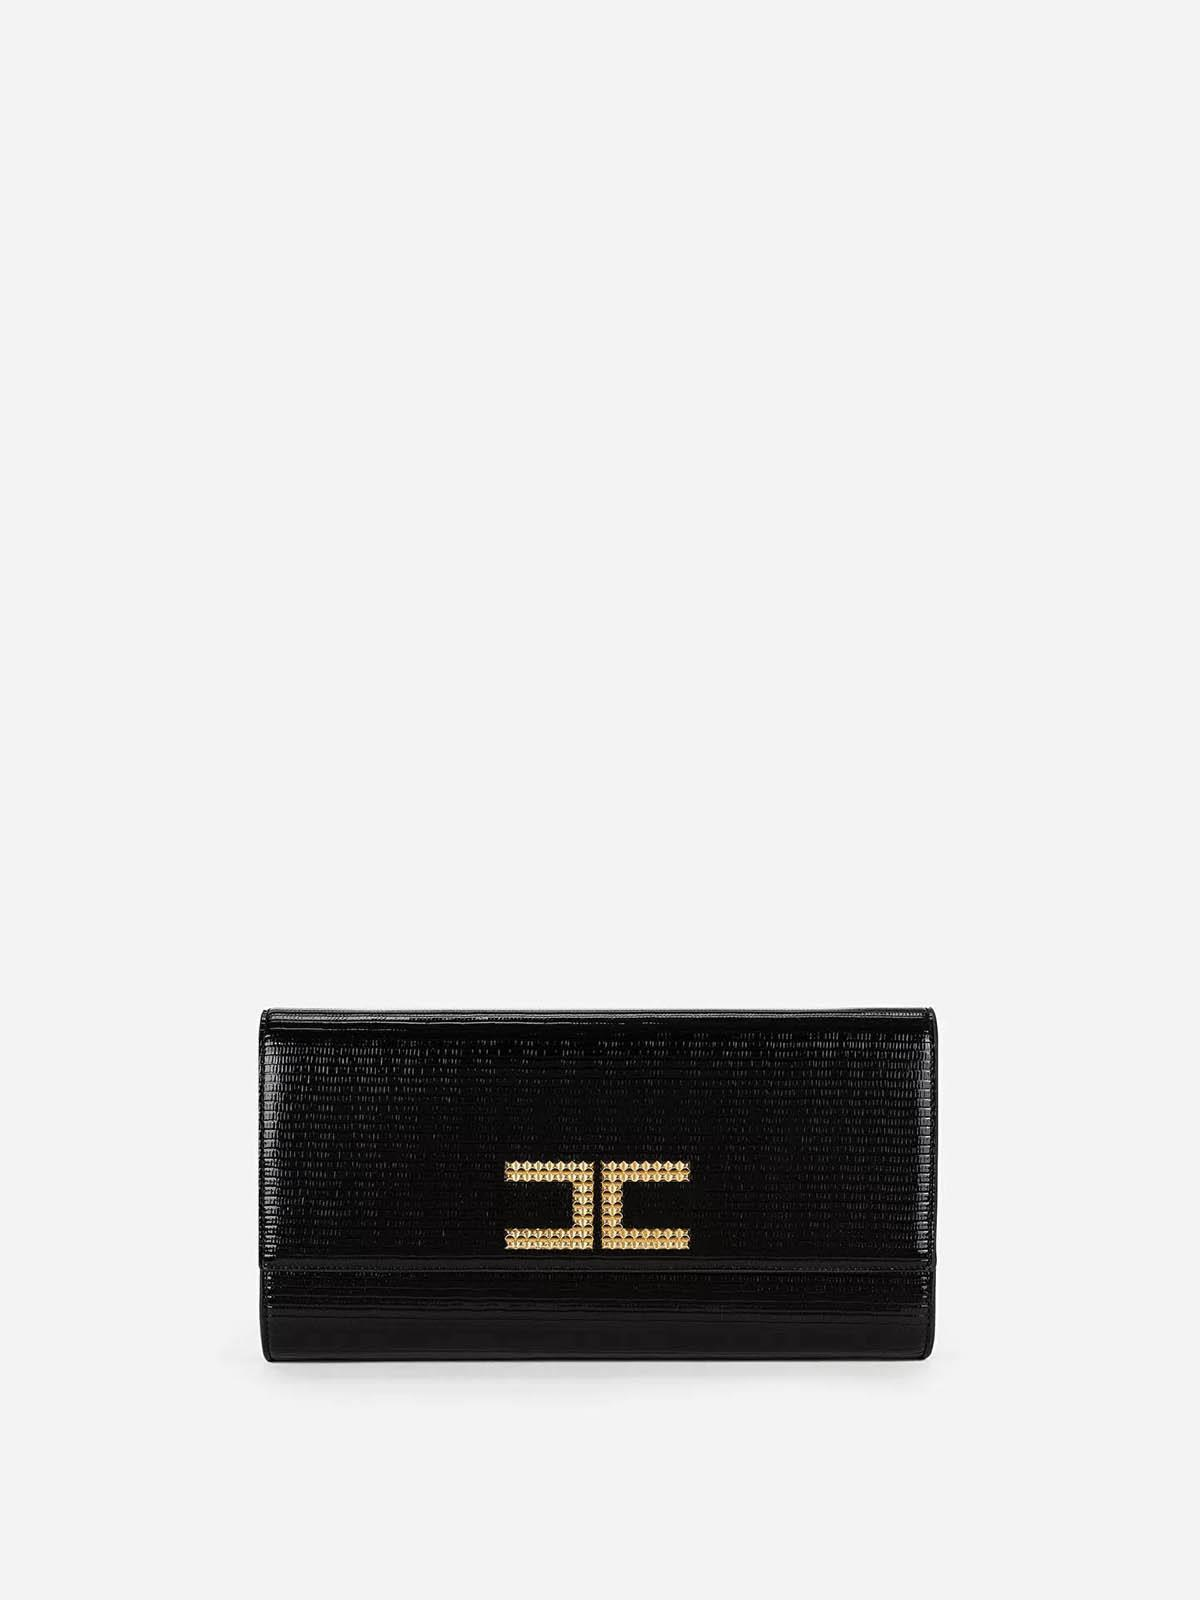ELISABETTA-FRANCHI: (483, 1141, 708, 1266)
